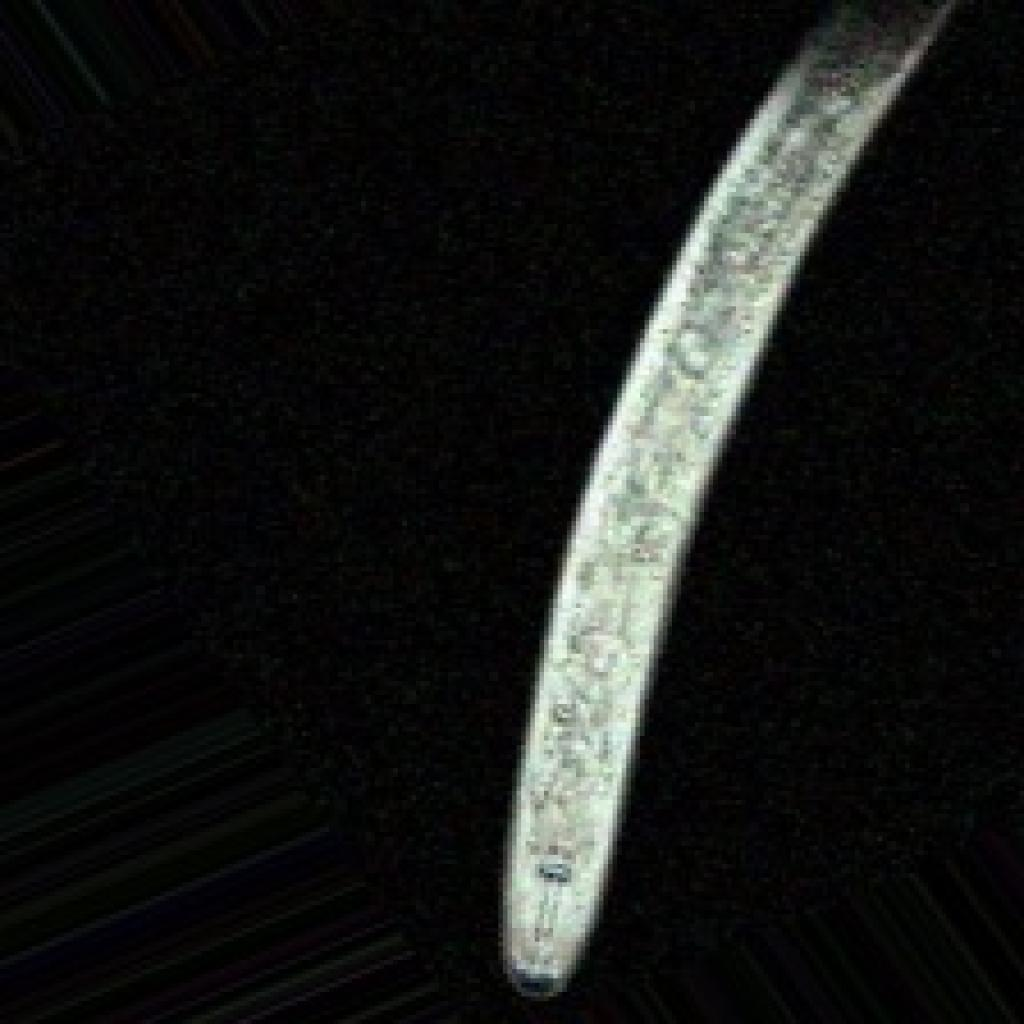Nematode: (0, 0, 1019, 1019), (484, 0, 1006, 1001)
